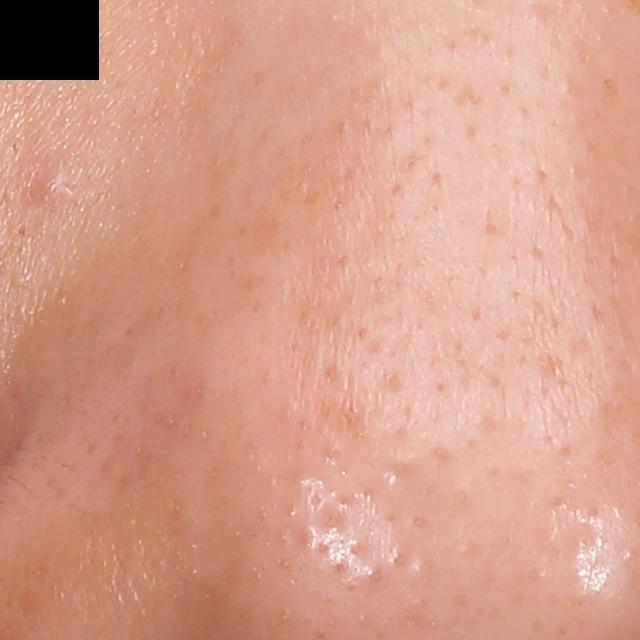papule: (30, 158, 73, 199)
